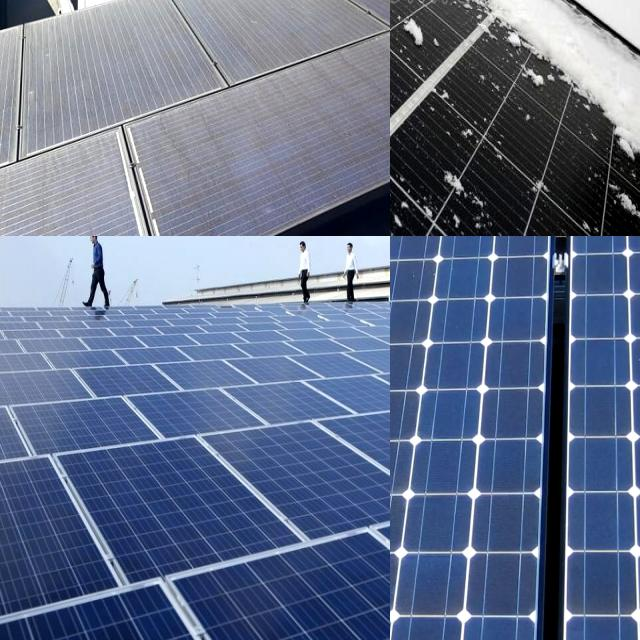crack: (290, 394, 390, 537), (127, 376, 266, 456), (12, 397, 162, 470), (221, 366, 361, 444), (124, 468, 222, 564), (400, 482, 499, 568), (66, 347, 186, 417), (192, 488, 280, 578), (455, 544, 544, 628), (148, 348, 268, 410), (219, 577, 336, 640), (556, 543, 640, 625), (414, 340, 518, 406), (557, 488, 640, 568), (0, 365, 108, 426), (297, 363, 390, 432), (273, 442, 346, 524), (467, 488, 541, 566), (561, 433, 640, 503), (316, 468, 380, 550), (390, 373, 438, 477), (568, 380, 640, 449), (480, 340, 558, 403), (442, 598, 543, 640), (390, 477, 435, 571), (330, 579, 390, 640), (390, 548, 438, 623), (390, 337, 442, 405), (390, 491, 438, 564), (390, 258, 453, 309), (390, 548, 429, 626), (390, 384, 436, 450), (390, 436, 431, 510), (390, 492, 429, 558), (390, 257, 428, 320), (390, 258, 431, 313), (390, 551, 422, 619), (390, 621, 483, 640), (390, 604, 437, 640), (549, 624, 640, 640), (390, 268, 421, 309)
dust: (149, 77, 390, 180), (44, 31, 152, 148), (214, 0, 301, 62), (0, 173, 84, 236), (344, 0, 390, 44)
panel: (505, 0, 600, 94), (404, 0, 536, 55), (390, 77, 444, 211), (556, 0, 640, 67), (390, 0, 455, 86), (390, 0, 481, 55), (390, 0, 515, 40), (613, 23, 640, 200), (390, 0, 440, 79), (390, 0, 441, 69), (390, 0, 461, 49), (390, 0, 446, 41), (527, 0, 572, 25), (390, 0, 425, 26)
